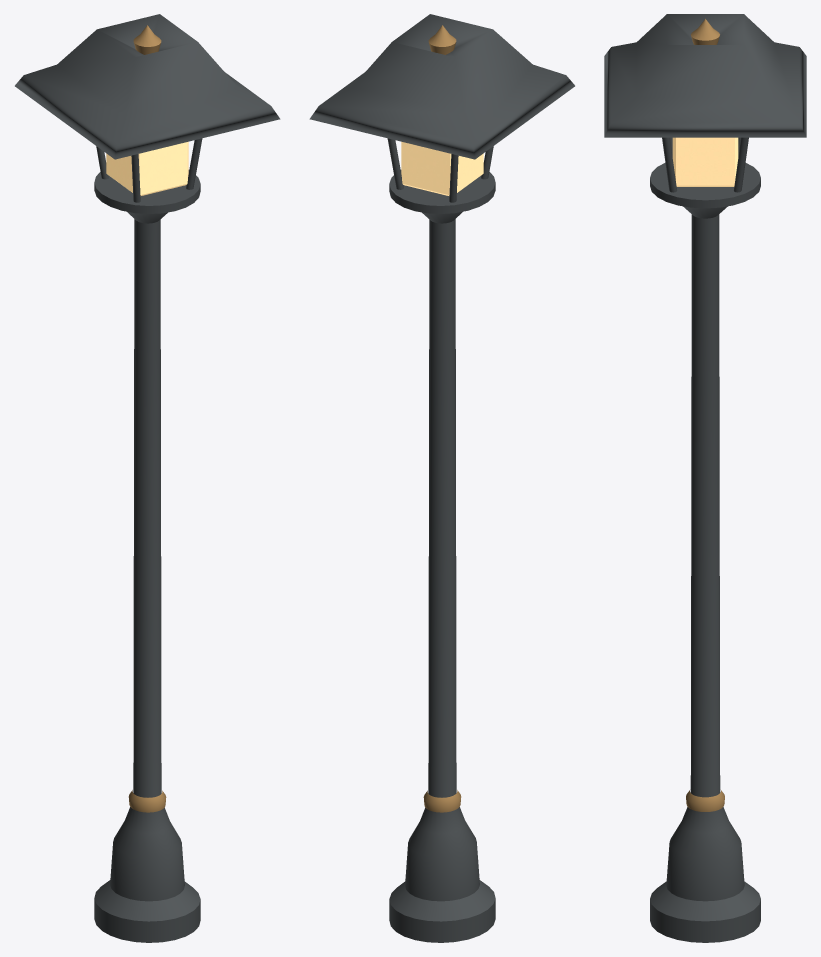
The model's file is street-light.glb.
3 views of the same model, side by side, from view 1: azimuth 30°, elevation 25°; view 2: azimuth 150°, elevation 25°; view 3: azimuth 270°, elevation 25° (orthographic).
Parts seen in each view (by area): view 1: street-light; view 2: street-light; view 3: street-light.
Boxes of the visible parts, bbox=[...] form: street-light: bbox=[15, 14, 280, 942]; street-light: bbox=[309, 14, 574, 942]; street-light: bbox=[604, 14, 806, 942].
Size of the model in its own units: 0.6468 by 3.34 by 0.68.
Materials: 3 (1 with a texture image).
